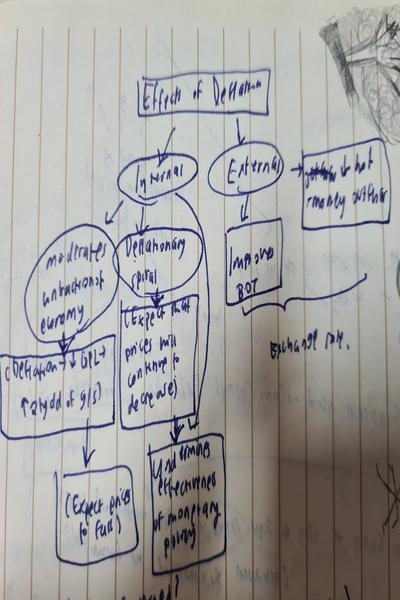arrow: (176, 191, 212, 431), (80, 425, 96, 469), (159, 125, 175, 164), (168, 418, 186, 444), (105, 200, 123, 225), (233, 115, 247, 144), (137, 203, 150, 231), (241, 195, 250, 223), (151, 292, 164, 307), (61, 339, 72, 355)
idea: (147, 435, 229, 576), (1, 338, 115, 439), (118, 296, 200, 430), (299, 136, 393, 233), (54, 466, 140, 567), (136, 68, 269, 117), (223, 220, 287, 306)
topic: (23, 223, 121, 344), (113, 228, 205, 295), (207, 143, 287, 196), (117, 155, 201, 204)
